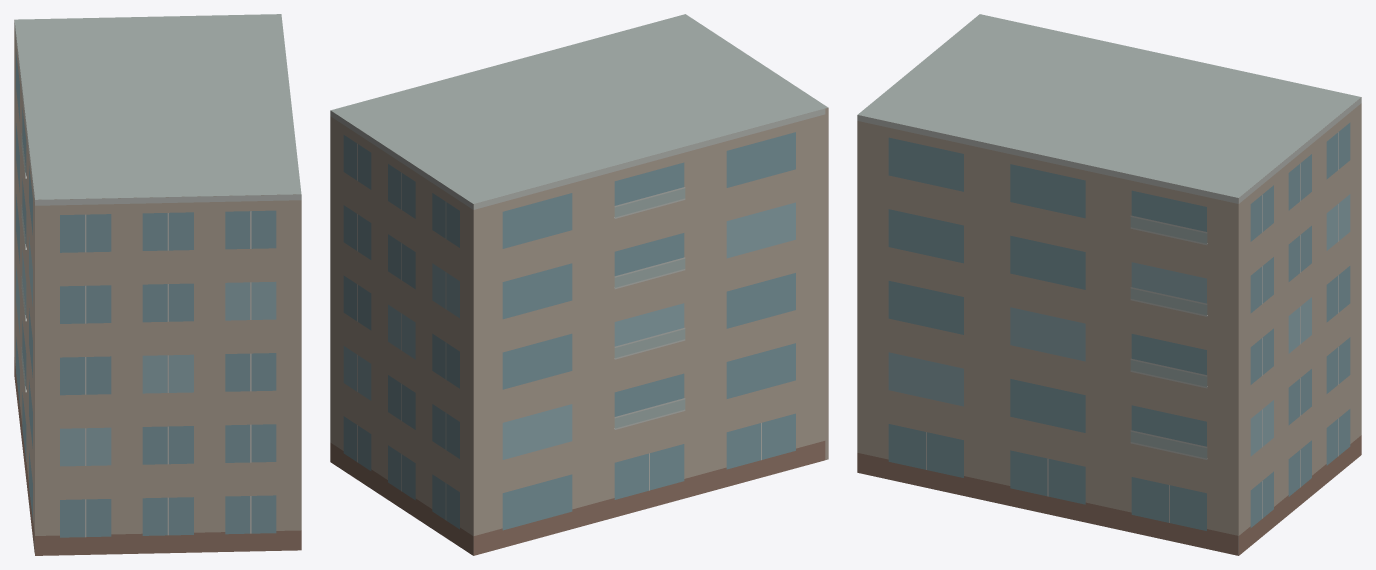
File: survey-upis-32879696.glb
3 views of the same model, side by side, from view 1: azimuth 30°, elevation 25°; view 2: azimuth 150°, elevation 25°; view 3: azimuth 270°, elevation 25° (orthographic).
Visible parts, largest first — view 1: survey-upis-32879696.tmp; view 2: survey-upis-32879696.tmp; view 3: survey-upis-32879696.tmp.
Boxes of the visible parts, box(x1,y1,x2,y2) form: survey-upis-32879696.tmp: box(14, 14, 301, 555); survey-upis-32879696.tmp: box(330, 14, 828, 555); survey-upis-32879696.tmp: box(857, 14, 1361, 555).
Bounding box in the file's own units: 16.11 × 14.6 × 18.65.
